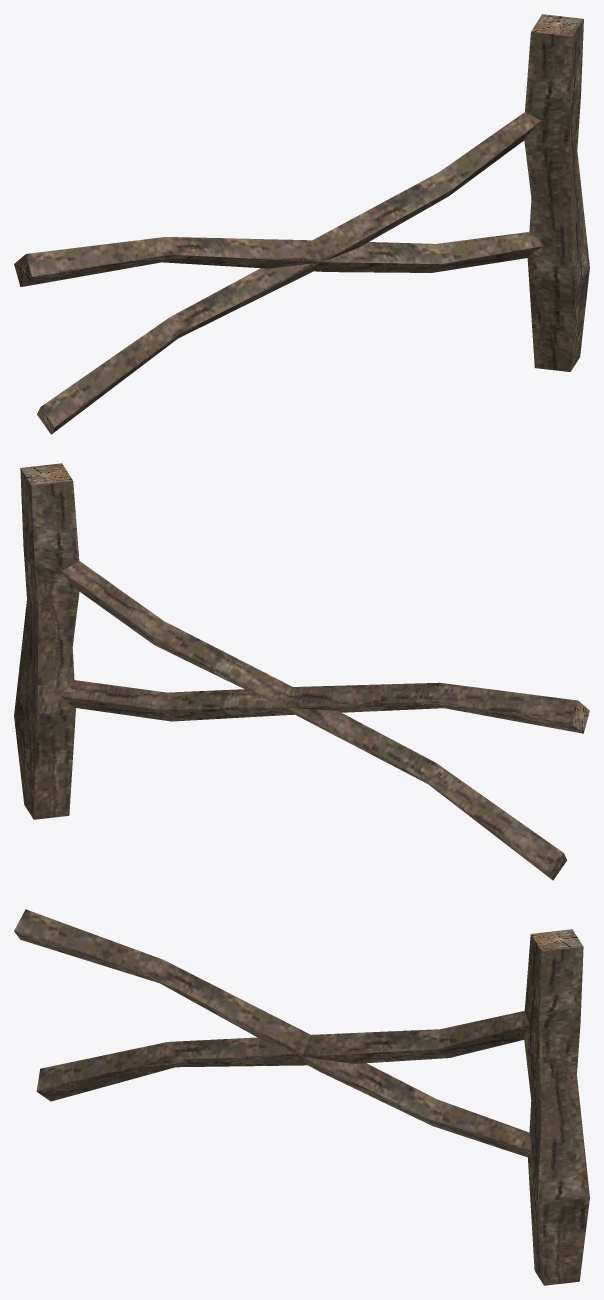
The model's file is lf_wooden_fence_open_crossed.glb.
The picture shows the model from 3 angles, top to bottom: view 1: azimuth 30°, elevation 25°; view 2: azimuth 150°, elevation 25°; view 3: azimuth 330°, elevation 25°; orthographic projection.
Visible parts, largest first — view 1: wooden_fence_oen_crossed; view 2: wooden_fence_oen_crossed; view 3: wooden_fence_oen_crossed.
Boxes of the visible parts, x1,y1,x2,y2 form: wooden_fence_oen_crossed: [14, 14, 589, 434]; wooden_fence_oen_crossed: [14, 463, 589, 880]; wooden_fence_oen_crossed: [14, 909, 589, 1285].
Bounding box in the file's own units: 2.12 × 1.2 × 0.2369.
1 material, 1 textured.
